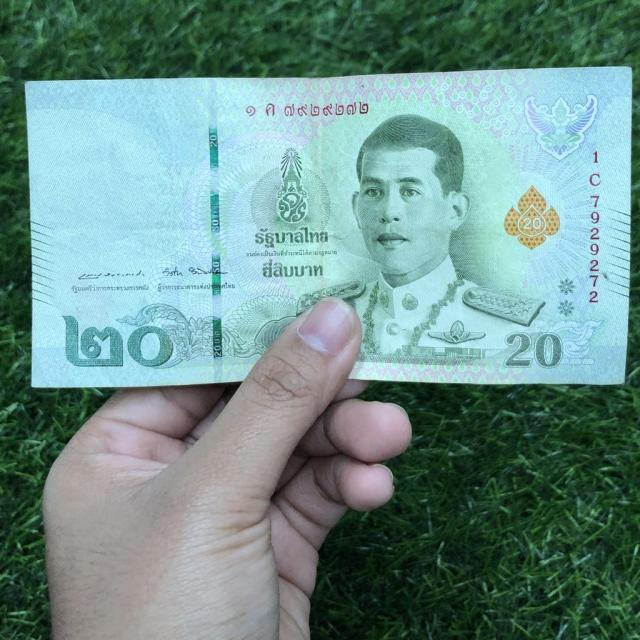THAI20: (26, 68, 630, 387)
